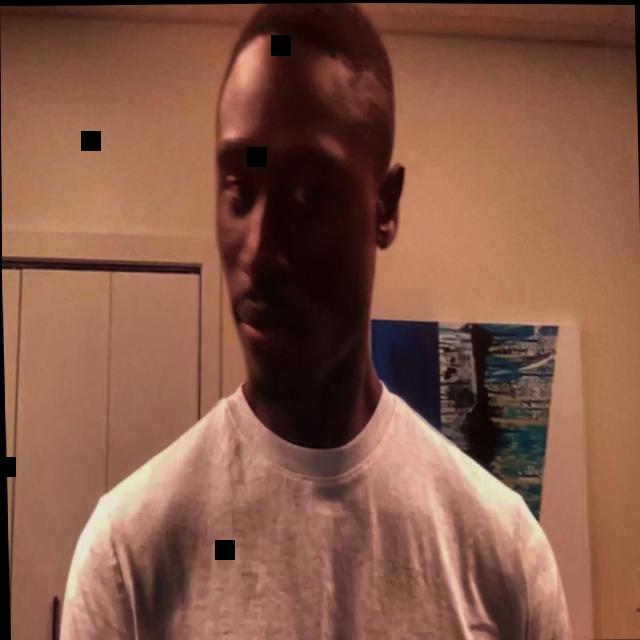NO-Mask: (212, 46, 393, 400)
